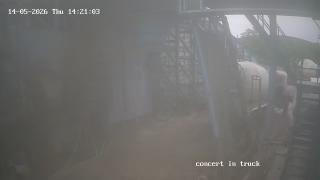cement_mixer_truck: (232, 56, 295, 120)
